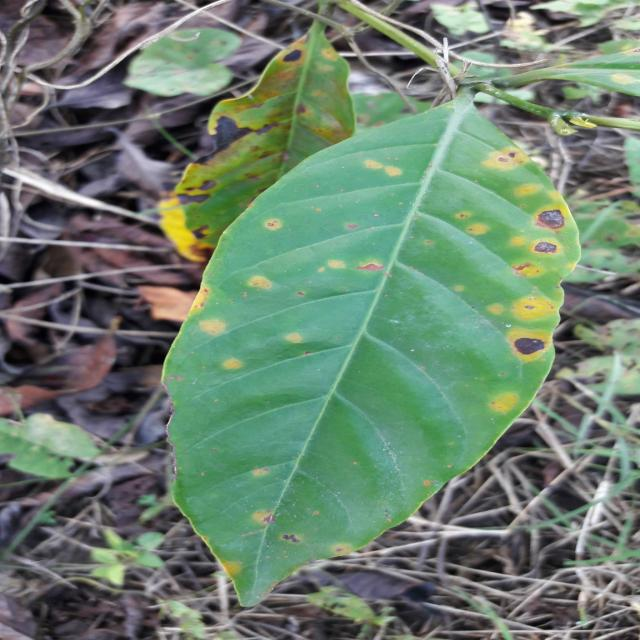Enfermedad-Roya: (168, 100, 581, 610)
